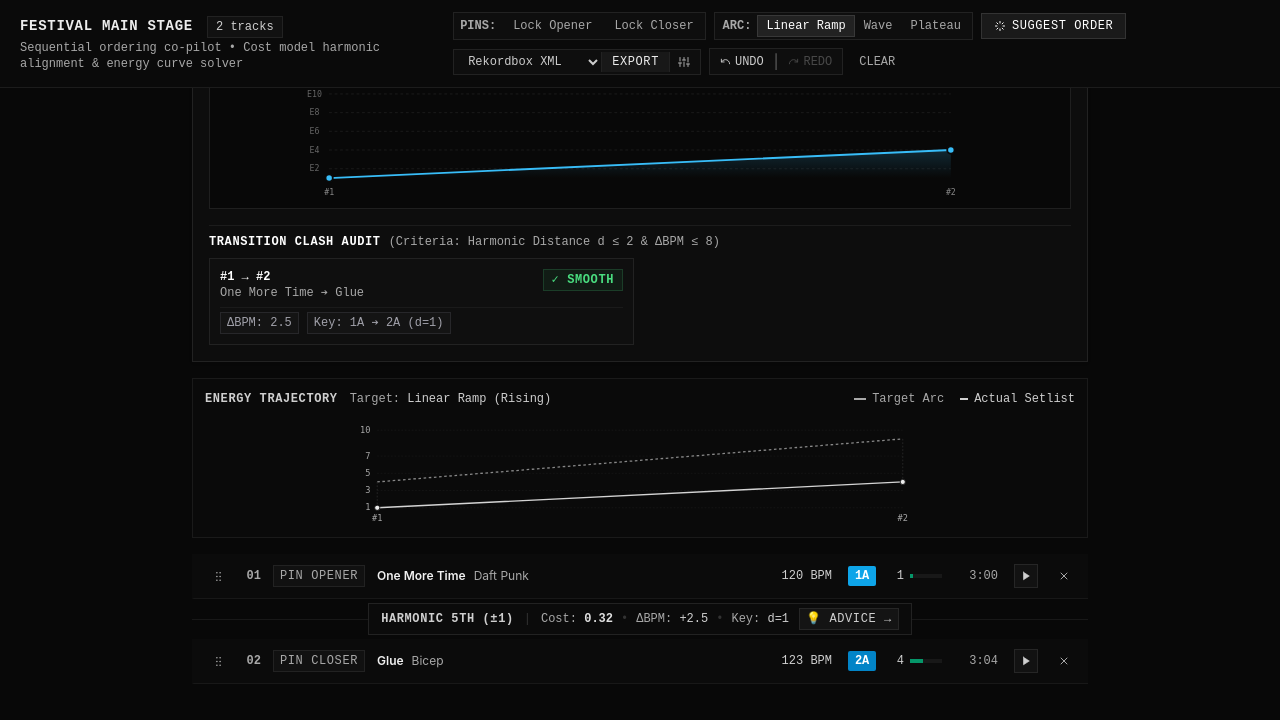
Scenario: SetlistView Component Integration Flow › opens and closes transition advice modal upon clicking a transition badge
(page scrolled)
Click the button with aria-label "Transition advice between One More Time and Glue" at (640, 619), box x1=368 y1=603 x2=912 y2=635
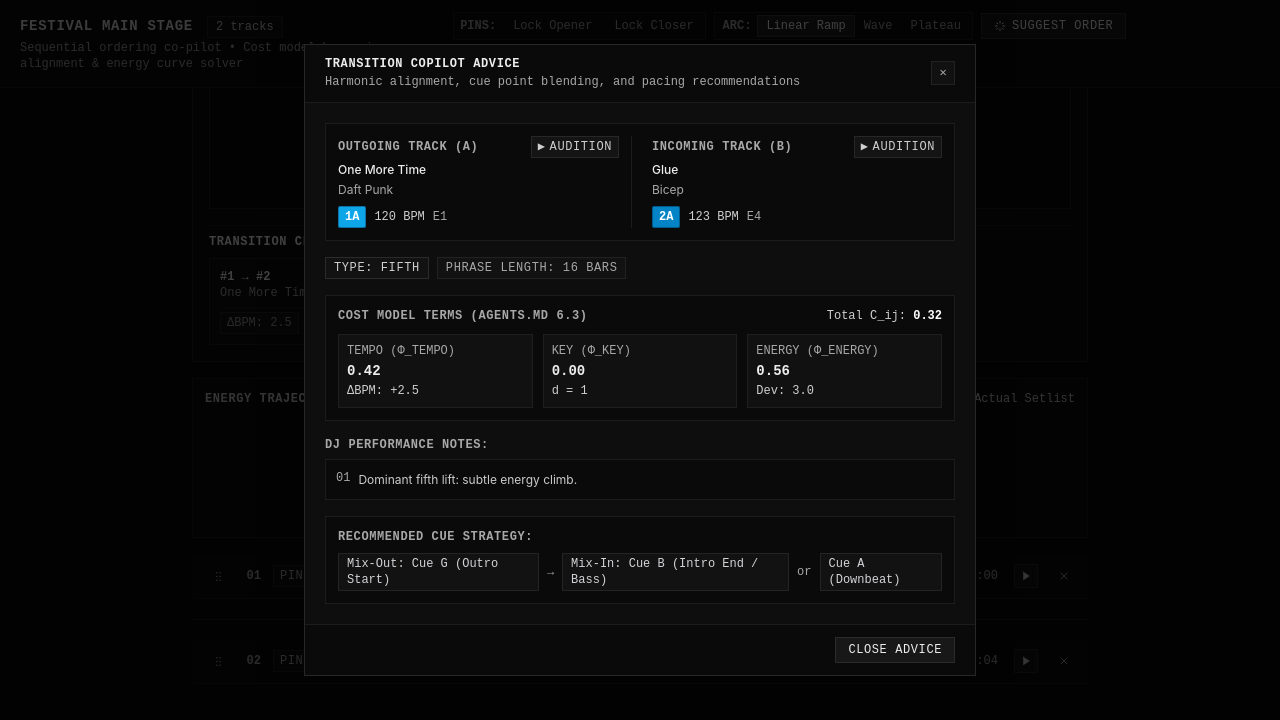
Expected: the heading "Transition Copilot Advice" is shown, x1=325 y1=57 x2=520 y2=71
Expected: the text "DJ Performance Notes:" is shown, x1=325 y1=438 x2=489 y2=452
// Close the advice modal
Click the button "Close Advice" at (895, 650), box x1=835 y1=637 x2=955 y2=663
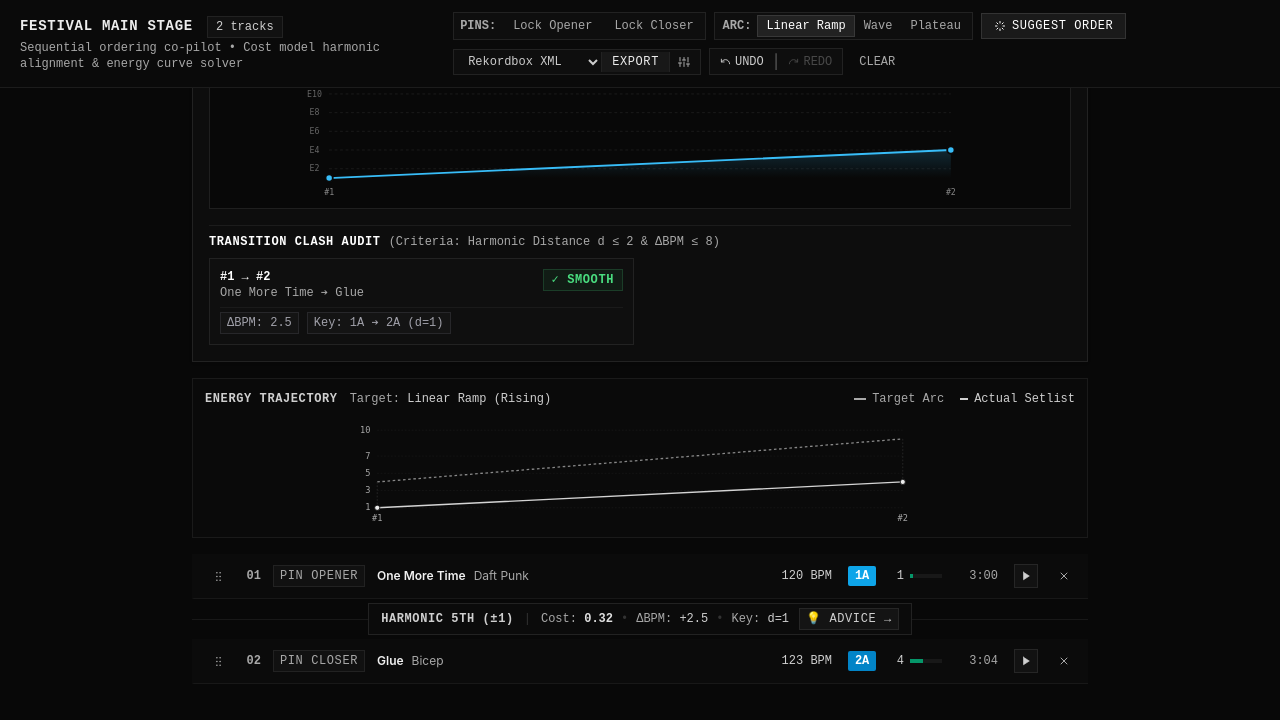
Expected: the heading "Transition Copilot Advice" is gone
